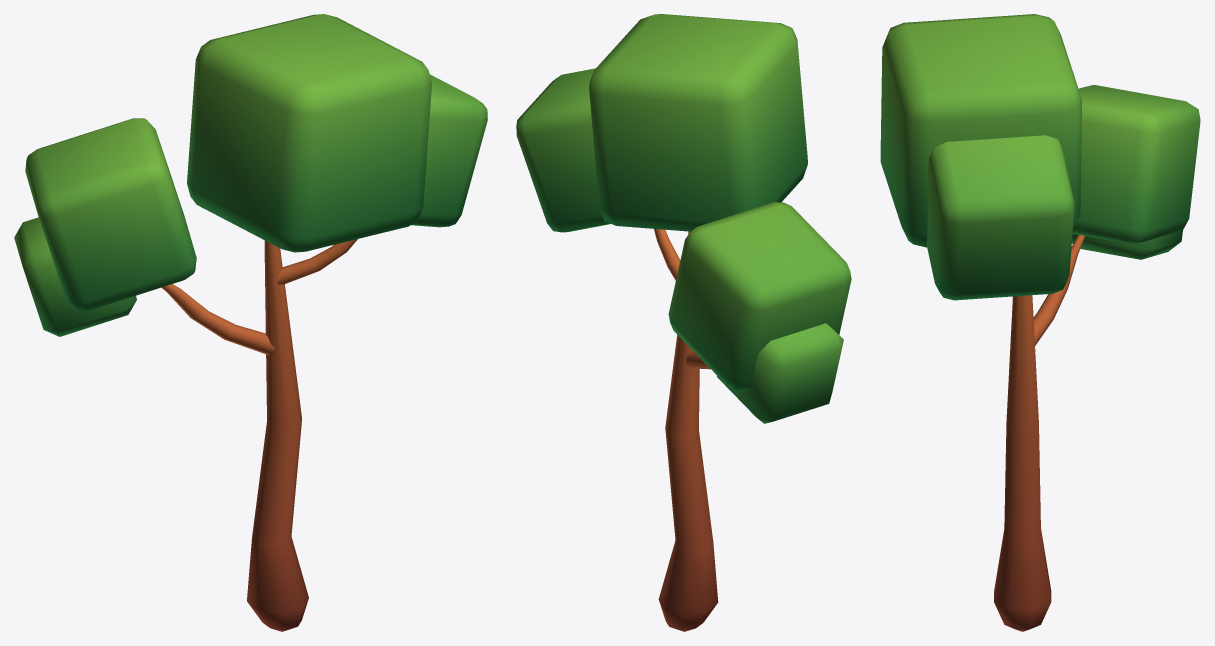
Rendered from Tree_2_C_Color1.glb.
3 views of the same model, side by side, from view 1: azimuth 30°, elevation 25°; view 2: azimuth 150°, elevation 25°; view 3: azimuth 270°, elevation 25° (orthographic). The views are drawn at different scales.
Parts seen in each view (by area): view 1: Tree_2_C_Color1; view 2: Tree_2_C_Color1; view 3: Tree_2_C_Color1.
Boxes of the visible parts, x1,y1,x2,y2 form: Tree_2_C_Color1: [14, 14, 487, 631]; Tree_2_C_Color1: [516, 14, 851, 631]; Tree_2_C_Color1: [880, 14, 1200, 631].
Size of the model in its own units: 4.6 by 6.92 by 3.4.
1 material, 1 textured.
